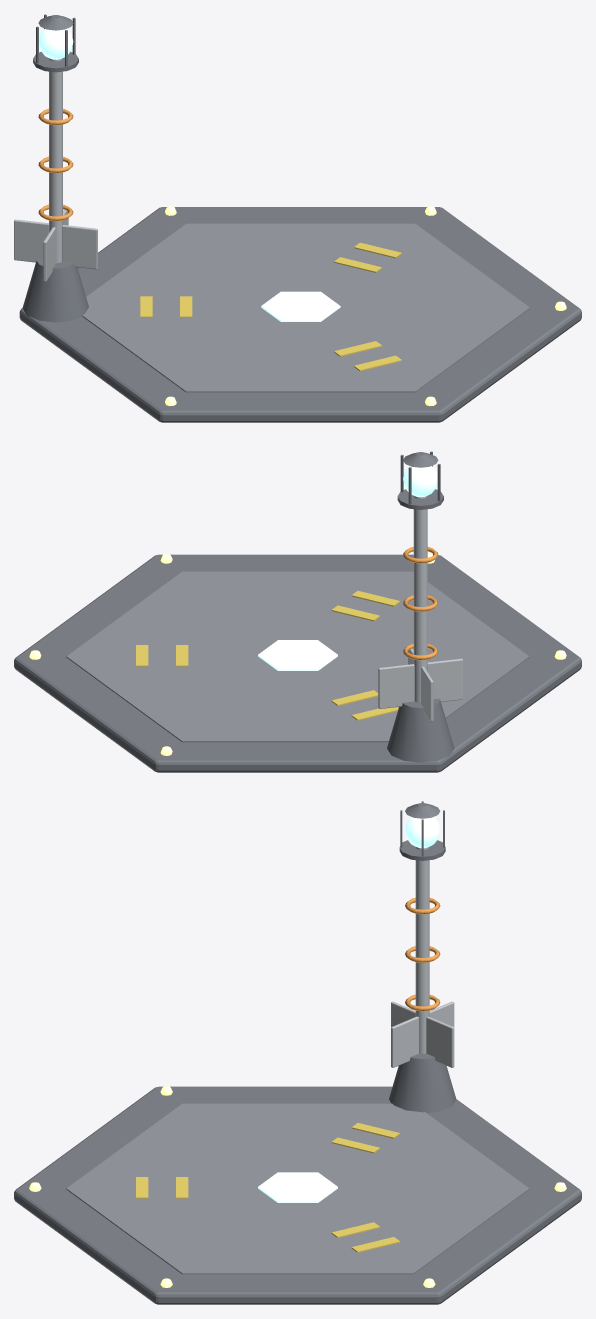
File: evac_beacon.glb
The picture shows the model from 3 angles, top to bottom: view 1: azimuth 30°, elevation 25°; view 2: azimuth 150°, elevation 25°; view 3: azimuth 270°, elevation 25°; orthographic projection.
Visible parts, largest first — view 1: EvacBeacon.001, Lamp.001; view 2: EvacBeacon.001, Lamp.001; view 3: EvacBeacon.001, Lamp.001.
Part boxes in pixels (left/top/right/bottom): EvacBeacon.001: left=14, top=14, right=581, bottom=422; Lamp.001: left=39, top=29, right=73, bottom=59; EvacBeacon.001: left=14, top=451, right=581, bottom=772; Lamp.001: left=403, top=466, right=437, bottom=497; EvacBeacon.001: left=14, top=801, right=581, bottom=1304; Lamp.001: left=405, top=817, right=440, bottom=848.
Bounding box in the file's own units: 5.55 × 3.8 × 6.38.
